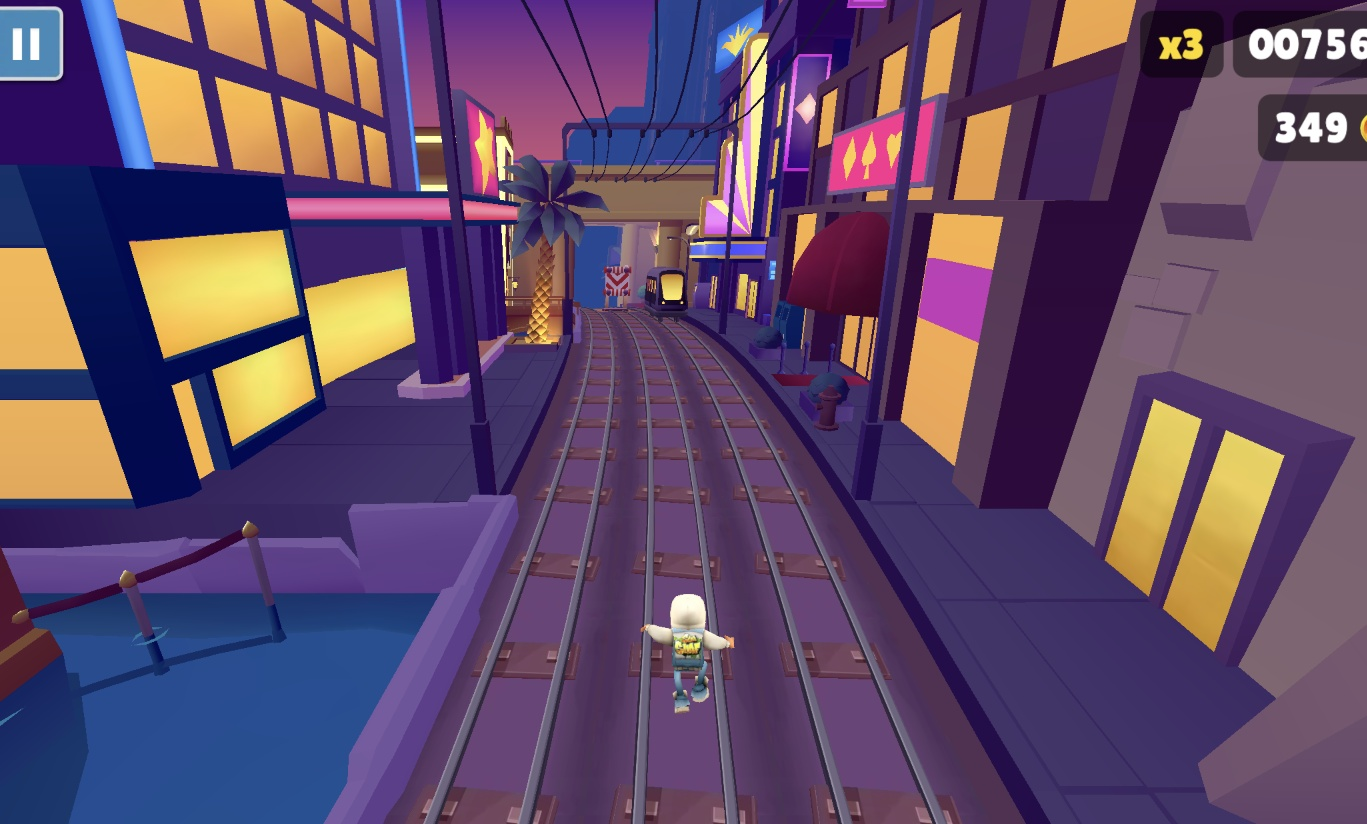overhead_barrier: (603, 265, 633, 311)
train: (645, 265, 690, 316)
